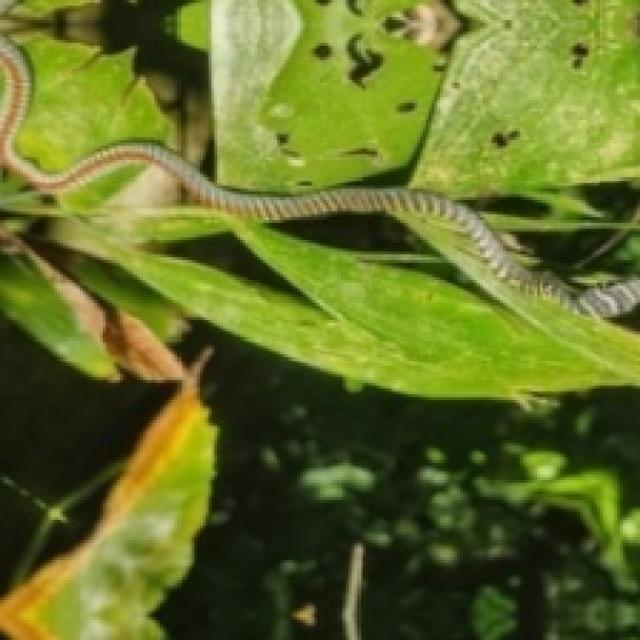paradise tree snake: (0, 0, 637, 314), (11, 29, 180, 171)
